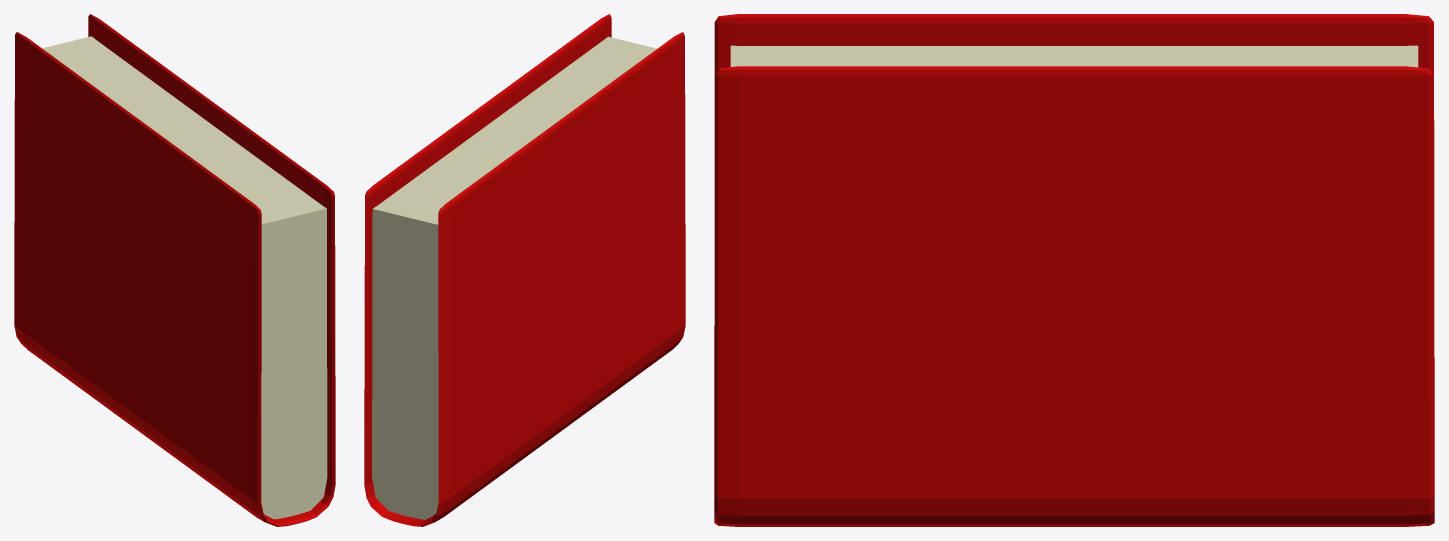
File: closedBook_red.fbx
3 views of the same model, side by side, from view 1: azimuth 30°, elevation 25°; view 2: azimuth 150°, elevation 25°; view 3: azimuth 270°, elevation 25° (orthographic). The views are drawn at different scales.
Parts seen in each view (by area): view 1: book_cover, book_pages; view 2: book_cover, book_pages; view 3: book_cover, book_pages.
Part boxes in pixels (x1,y1,x2,y2): book_cover: [14, 14, 335, 526]; book_pages: [42, 36, 327, 519]; book_cover: [364, 14, 685, 526]; book_pages: [372, 36, 656, 519]; book_cover: [714, 14, 1434, 526]; book_pages: [730, 45, 1418, 67].
Bounding box in the file's own units: 4.33 × 16.92 × 23.23.
